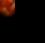lifeC: (0, 0, 15, 19)
